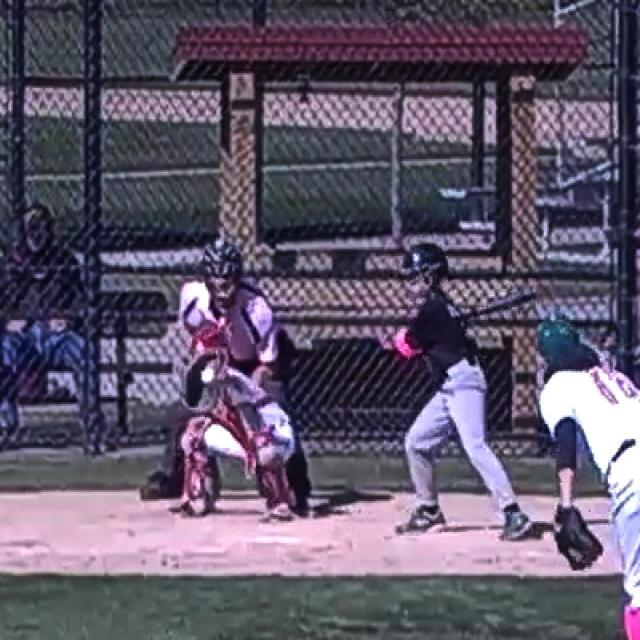baseball: (202, 370, 212, 382)
